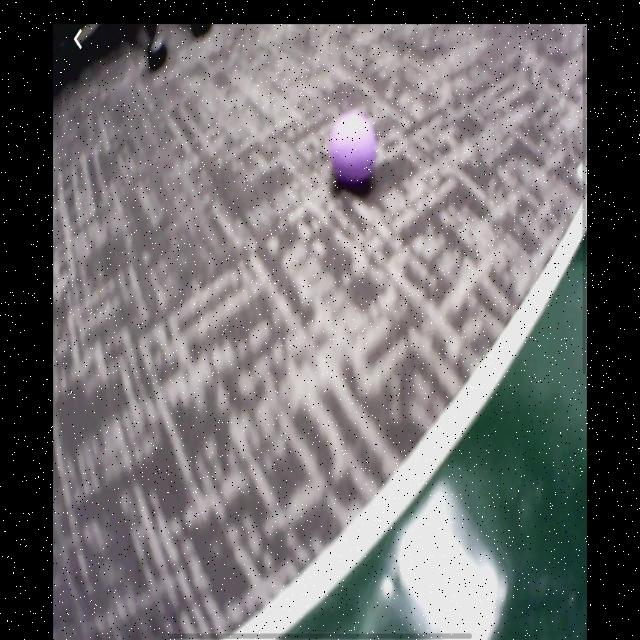ball: (333, 115, 377, 187)
